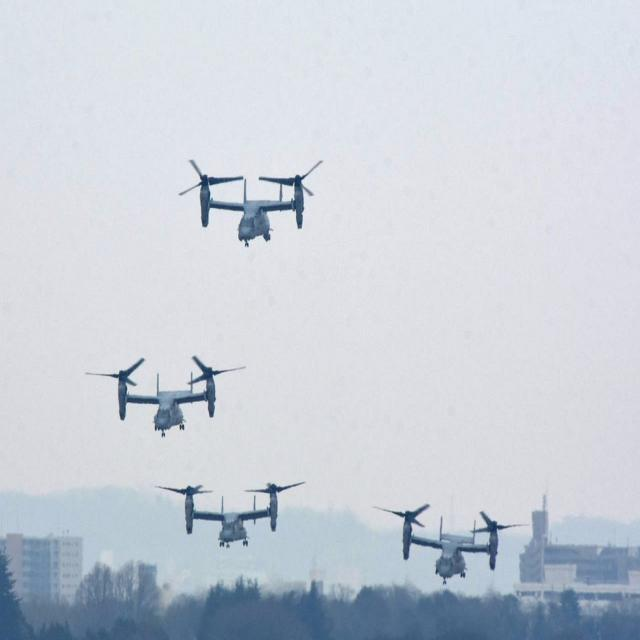MIL_Plane: (85, 355, 247, 437), (178, 159, 324, 247), (371, 504, 530, 584), (154, 481, 306, 548)
